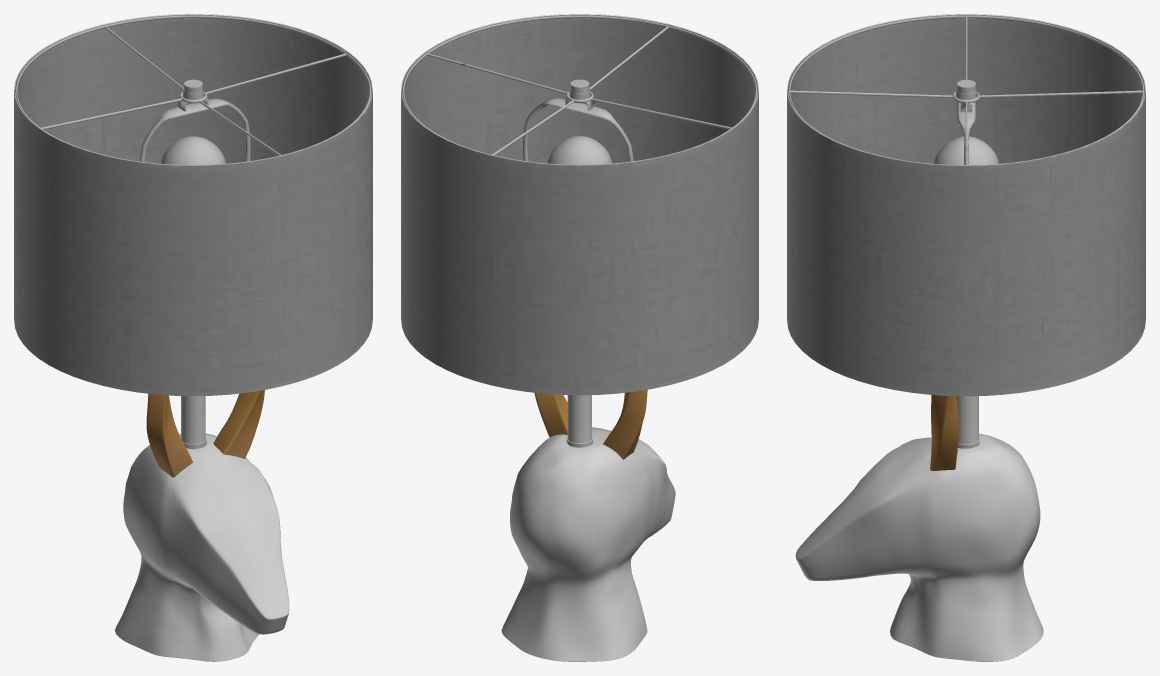
The model's file is abo-B075X2NLK5.glb.
3 views of the same model, side by side, from view 1: azimuth 30°, elevation 25°; view 2: azimuth 150°, elevation 25°; view 3: azimuth 270°, elevation 25° (orthographic).
Size of the model in its own units: 0.298 by 0.503 by 0.298.
1 material, 1 textured.
